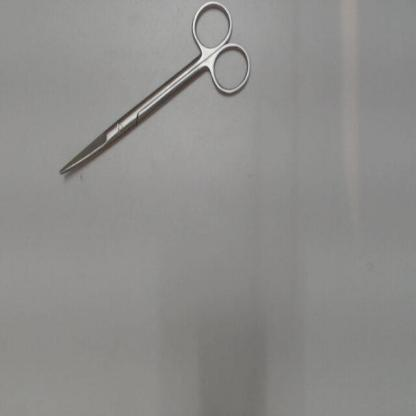Curved Mayo Scissors: (56, 0, 256, 181)
